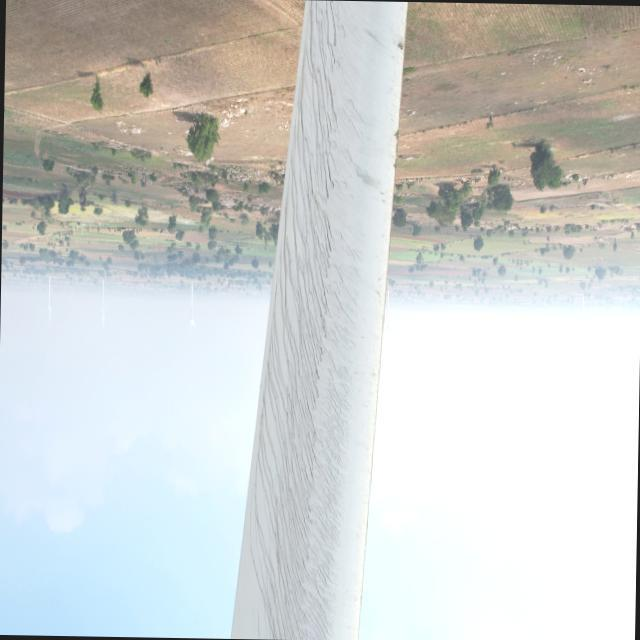Dirt: (244, 2, 389, 640)
Pin Hole: (391, 128, 406, 140), (399, 36, 409, 50)
